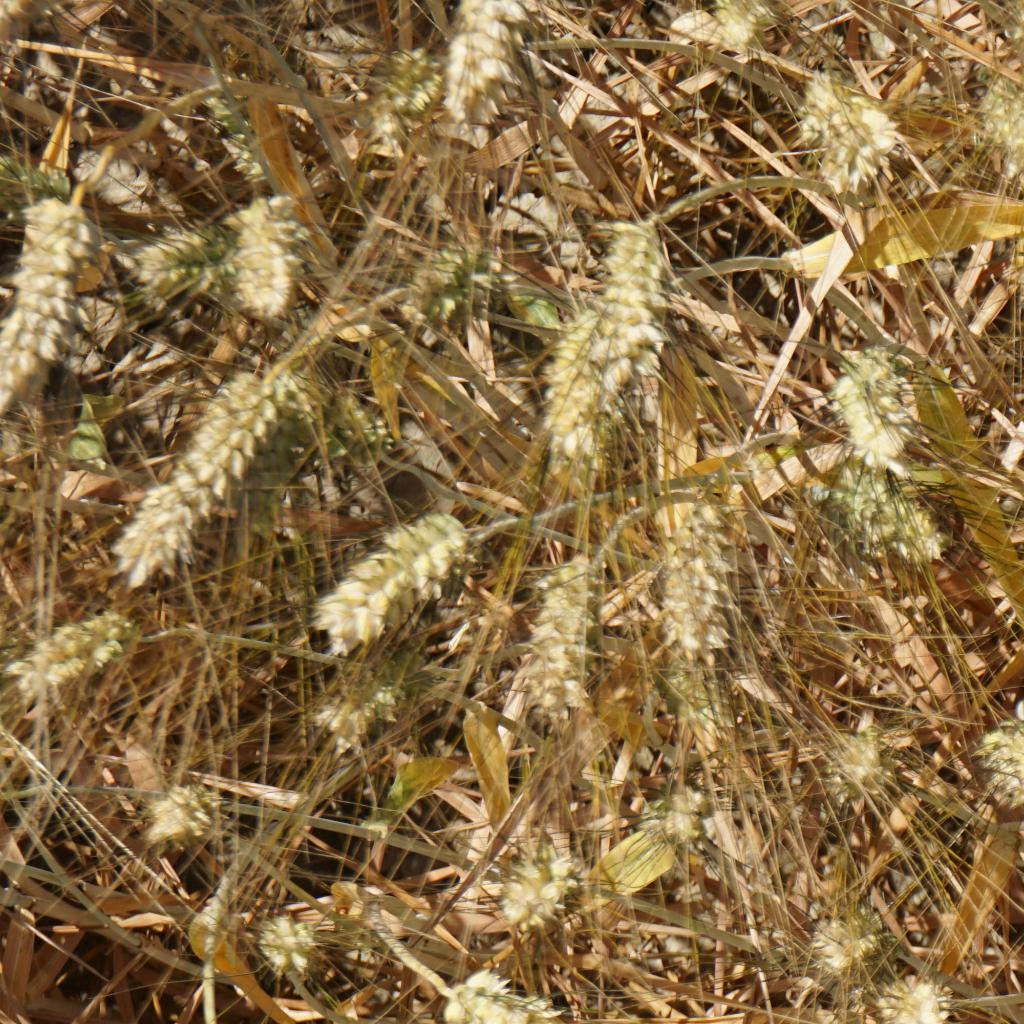0-0: (116, 358, 289, 553), (505, 551, 620, 732), (592, 206, 695, 393), (332, 504, 466, 637), (640, 496, 740, 667), (0, 181, 78, 397), (403, 210, 508, 358), (468, 837, 610, 937), (817, 458, 937, 574), (828, 334, 939, 453), (525, 301, 602, 454), (797, 80, 903, 186), (7, 596, 125, 689), (441, 963, 616, 1024), (440, 0, 525, 121), (214, 200, 295, 311), (299, 671, 411, 748), (82, 137, 171, 218), (970, 39, 1024, 171), (651, 781, 724, 876), (244, 902, 332, 978), (817, 726, 896, 807), (683, 0, 793, 58), (143, 777, 228, 846), (799, 900, 878, 974), (128, 224, 206, 293), (377, 37, 439, 120), (974, 702, 1024, 797), (874, 966, 947, 1024), (998, 216, 1024, 307)
